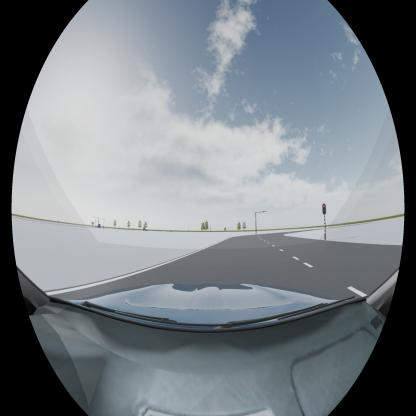Red Light: (322, 203, 327, 215)
